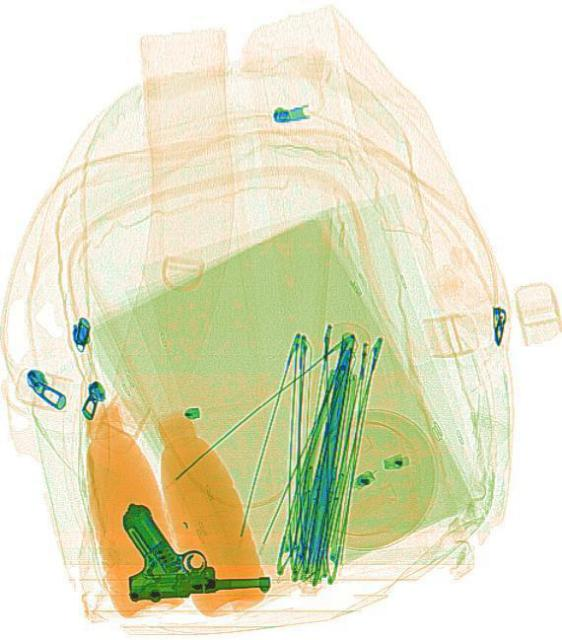Gun: (117, 493, 270, 602)
